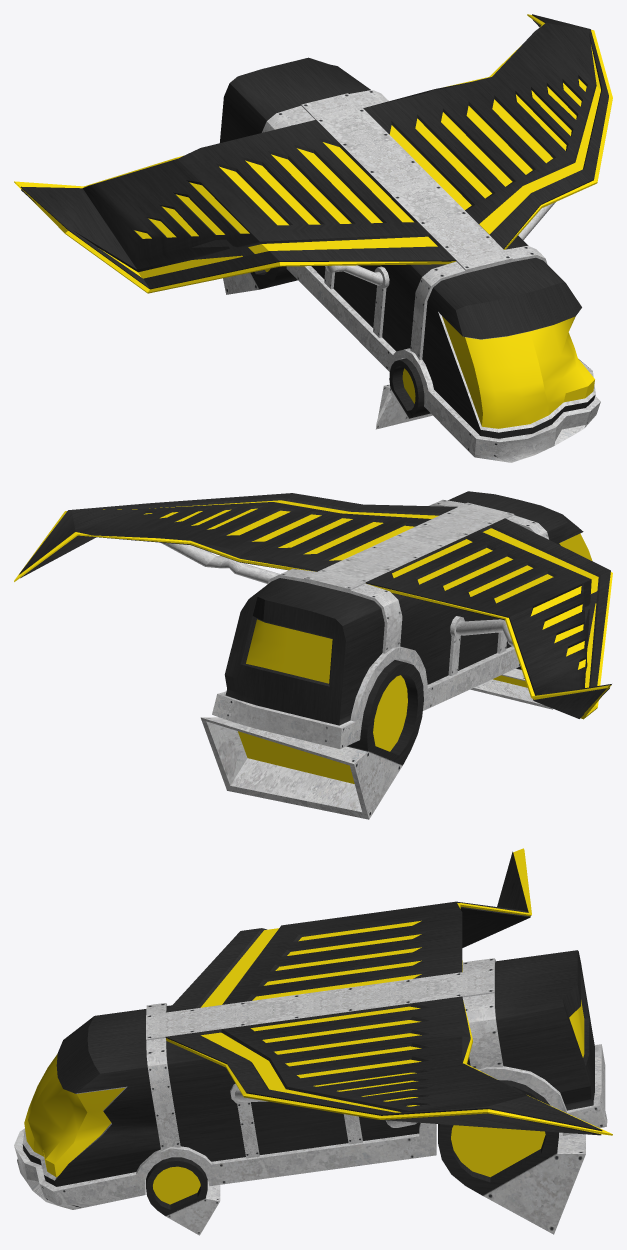
The model's file is TheBus_60.fbx.
3 views of the same model, one above another, from view 1: azimuth 30°, elevation 25°; view 2: azimuth 150°, elevation 25°; view 3: azimuth 270°, elevation 25° (orthographic). The views are drawn at different scales.
Visible parts, largest first — view 1: Body, FrontThrust, Back_Thrust, pipe1; view 2: Body, Back_Thrust, pipe4, FrontThrust, pipe2; view 3: Body, Back_Thrust, FrontThrust.
Part boxes in pixels (left/top/right/bottom): Body: left=14, top=14, right=612, bottom=462; FrontThrust: left=375, top=358, right=432, bottom=429; Back_Thrust: left=223, top=266, right=297, bottom=294; pipe1: left=325, top=265, right=389, bottom=288; Body: left=14, top=491, right=612, bottom=748; Back_Thrust: left=200, top=660, right=423, bottom=819; pipe4: left=161, top=542, right=279, bottom=583; FrontThrust: left=470, top=666, right=553, bottom=709; pipe2: left=450, top=616, right=513, bottom=646; Body: left=14, top=848, right=612, bottom=1209; Back_Thrust: left=438, top=1080, right=585, bottom=1234; FrontThrust: left=146, top=1157, right=220, bottom=1235.
Bounding box in the file's own units: 6.29 × 2.29 × 5.47.
